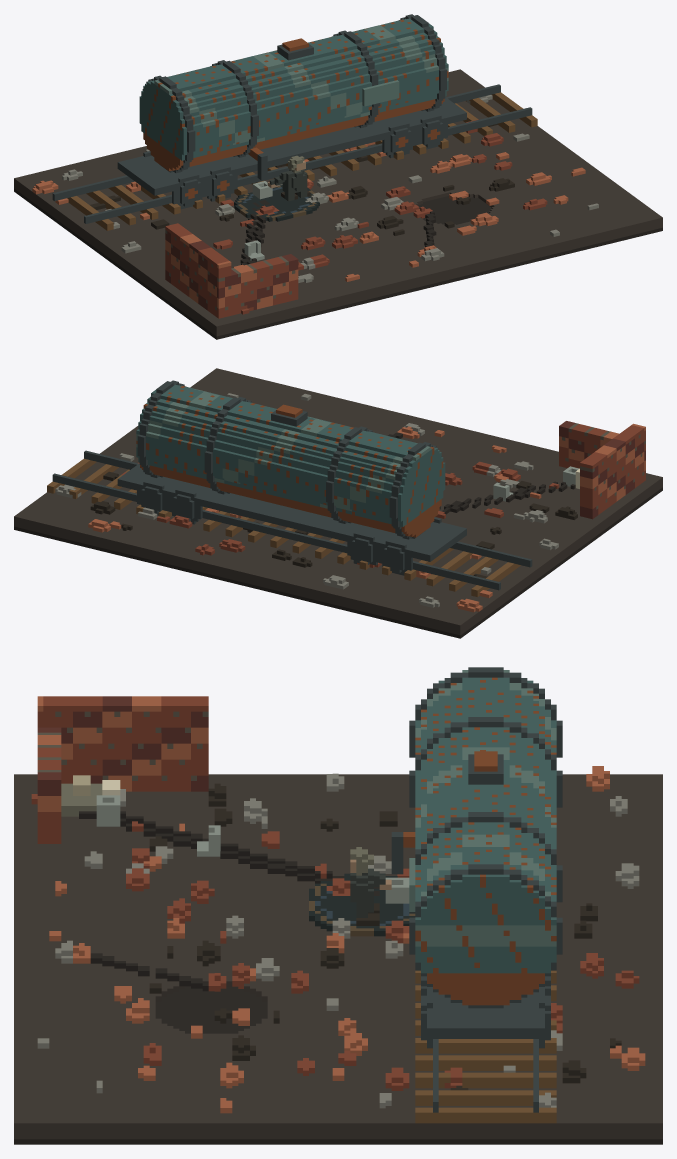
The picture shows the model from 3 angles, top to bottom: view 1: azimuth 30°, elevation 25°; view 2: azimuth 150°, elevation 25°; view 3: azimuth 270°, elevation 25°; orthographic projection. The views are drawn at different scales.
Visible parts, largest first — view 1: 01_exposed_ground, 03_cistern_shell, 08_shelter_edge_and_missing_return, 02_rail_and_underframe, 06_contaminated_water_and_footpath, 04_filler_ladder_and_empty_plate, 07_crouched_anonymous_collector, 05_low_water_outlet; view 2: 01_exposed_ground, 03_cistern_shell, 02_rail_and_underframe, 08_shelter_edge_and_missing_return, 06_contaminated_water_and_footpath, 04_filler_ladder_and_empty_plate; view 3: 01_exposed_ground, 08_shelter_edge_and_missing_return, 03_cistern_shell, 02_rail_and_underframe, 06_contaminated_water_and_footpath, 07_crouched_anonymous_collector, 04_filler_ladder_and_empty_plate, 05_low_water_outlet.
Boxes of the visible parts, <box> form: 01_exposed_ground: <box>14,69,662,339</box>; 03_cistern_shell: <box>139,14,448,173</box>; 08_shelter_edge_and_missing_return: <box>32,95,598,318</box>; 02_rail_and_underframe: <box>52,84,537,230</box>; 06_contaminated_water_and_footpath: <box>234,185,319,265</box>; 04_filler_ladder_and_empty_plate: <box>277,38,399,106</box>; 07_crouched_anonymous_collector: <box>267,155,310,201</box>; 05_low_water_outlet: <box>248,147,272,199</box>; 01_exposed_ground: <box>14,368,662,638</box>; 03_cistern_shell: <box>136,380,445,539</box>; 02_rail_and_underframe: <box>47,450,532,596</box>; 08_shelter_edge_and_missing_return: <box>55,393,645,612</box>; 06_contaminated_water_and_footpath: <box>439,466,579,514</box>; 04_filler_ladder_and_empty_plate: <box>271,404,307,426</box>; 01_exposed_ground: <box>14,774,662,1144</box>; 08_shelter_edge_and_missing_return: <box>31,696,645,1113</box>; 03_cistern_shell: <box>409,667,562,1008</box>; 02_rail_and_underframe: <box>415,970,556,1123</box>; 06_contaminated_water_and_footpath: <box>79,780,415,936</box>; 07_crouched_anonymous_collector: <box>350,847,391,925</box>; 04_filler_ladder_and_empty_plate: <box>409,751,503,911</box>; 05_low_water_outlet: <box>385,832,415,903</box>.
Size of the model in its own units: 14 by 4 by 11.
